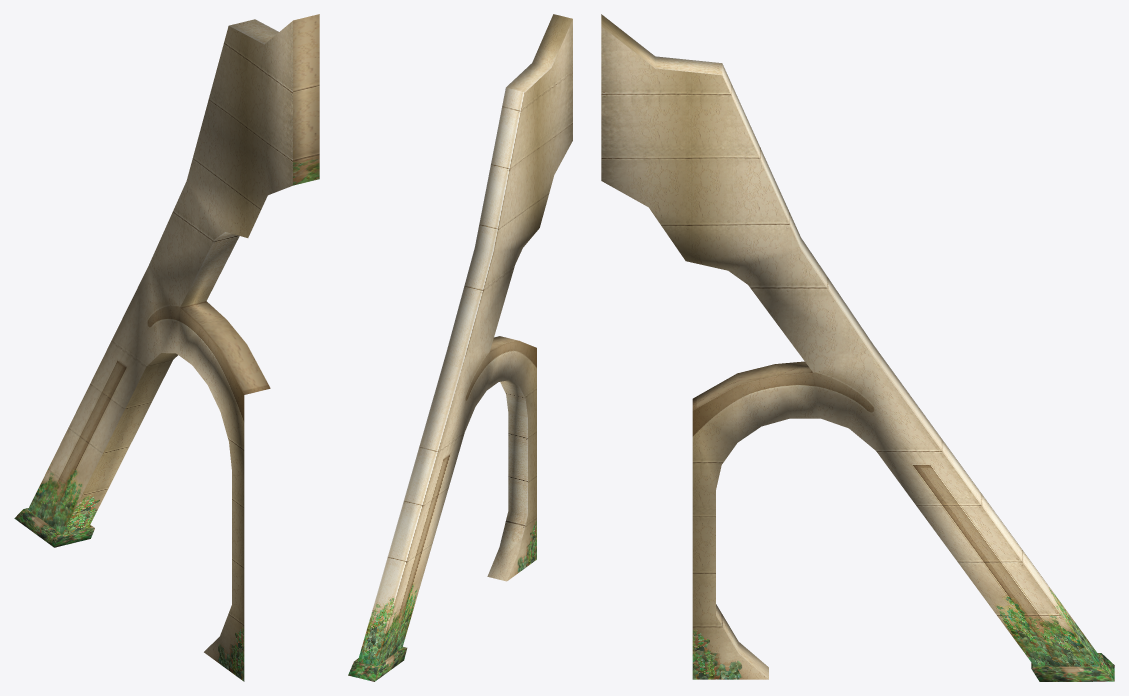
The model's file is s_SEmain_1.glb.
The picture shows the model from 3 angles, left to right: view 1: azimuth 30°, elevation 25°; view 2: azimuth 150°, elevation 25°; view 3: azimuth 270°, elevation 25°; orthographic projection. The views are drawn at different scales.
Visible parts, largest first — view 1: s_SEmain_1; view 2: s_SEmain_1; view 3: s_SEmain_1.
Boxes of the visible parts, <box> form: s_SEmain_1: <box>14,14,319,681</box>; s_SEmain_1: <box>348,14,572,681</box>; s_SEmain_1: <box>601,14,1114,681</box>.
Size of the model in its own units: 0.8261 by 15.08 by 10.73.
Materials: 1 (1 with a texture image).
